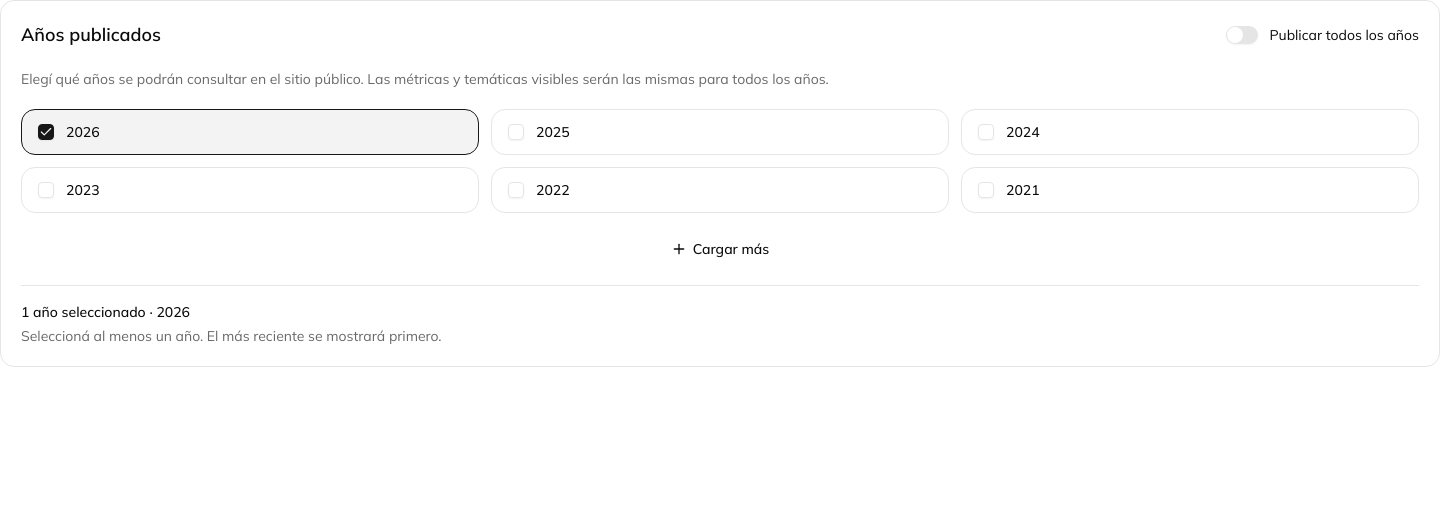
Test case: reveals two rows at a time with wide=true
This screenshot has width=1440, height=506.
Check: the number of checkboxes is 6, box [38, 124, 54, 140]; [508, 124, 524, 140]; [978, 124, 994, 140]; [38, 182, 54, 198]; [508, 182, 524, 198]; [978, 182, 994, 198]
Click the button "Cargar más". click: (720, 249)
box: [661, 233, 779, 265]
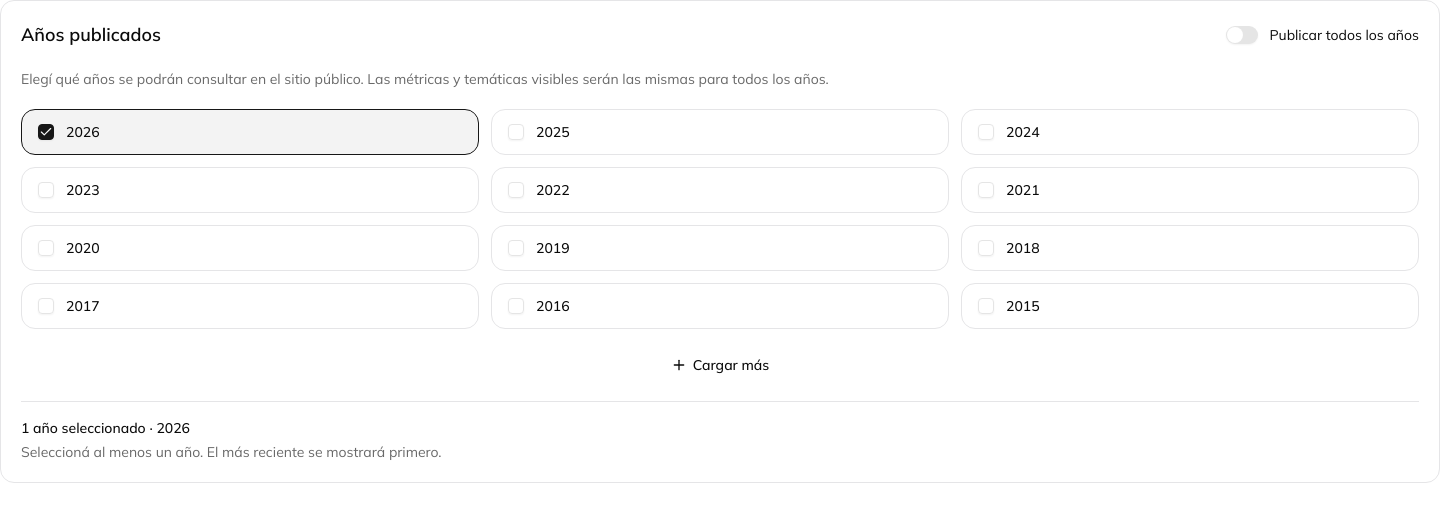
Check: the number of checkboxes is 12
Click the button "Cargar más". click: (720, 365)
box: [661, 349, 779, 381]
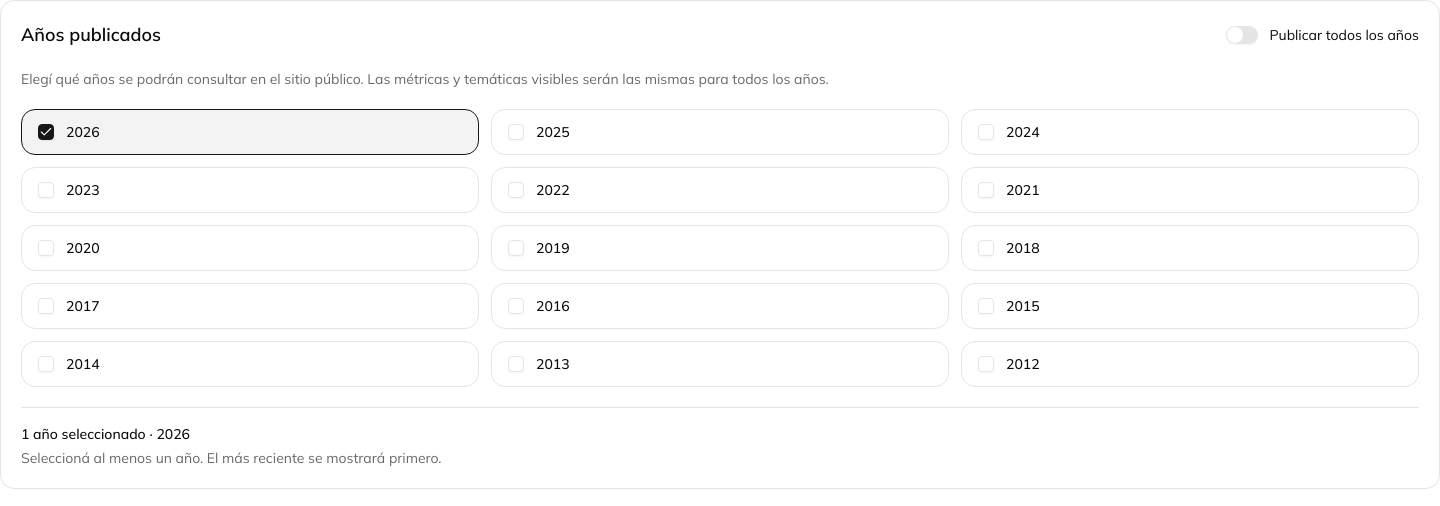
Check: the button "Cargar más" is gone
